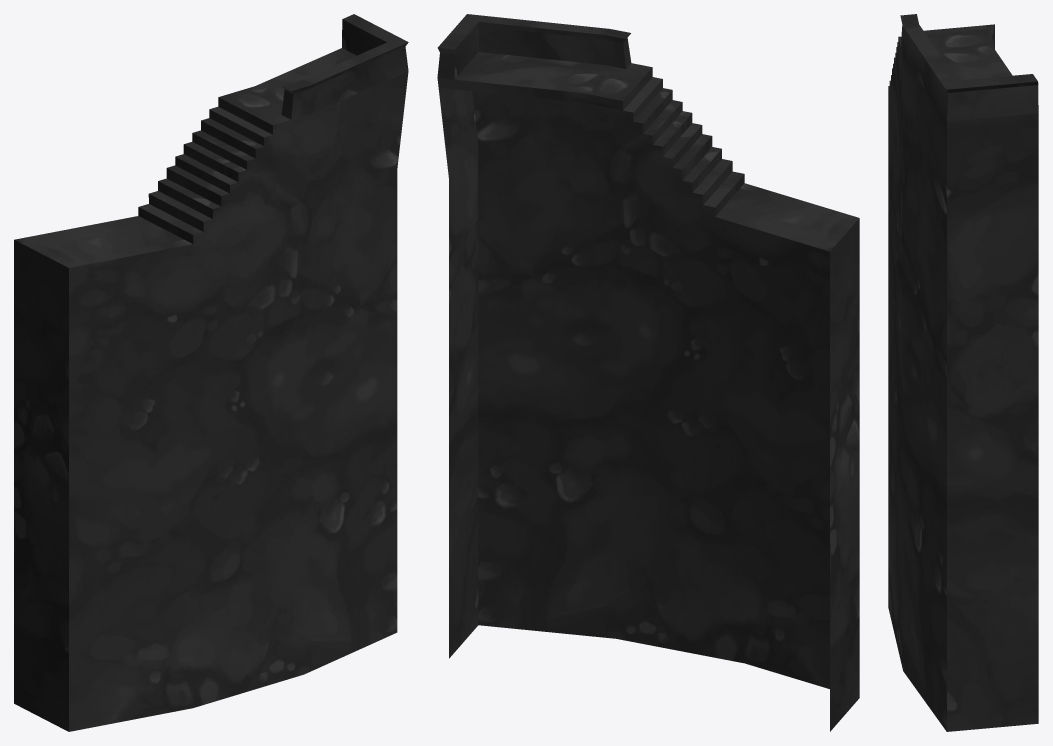
Rendered from Water_Platform_Steps.fbx.
The picture shows the model from 3 angles, left to right: view 1: azimuth 30°, elevation 25°; view 2: azimuth 150°, elevation 25°; view 3: azimuth 270°, elevation 25°; orthographic projection. The views are drawn at different scales.
Visible parts, largest first — view 1: Water_Platform_Steps; view 2: Water_Platform_Steps; view 3: Water_Platform_Steps.
Part boxes in pixels (x1,y1,x2,y2): Water_Platform_Steps: [14, 14, 408, 731]; Water_Platform_Steps: [437, 14, 859, 731]; Water_Platform_Steps: [888, 14, 1038, 731].
Bounding box in the file's own units: 1503 × 2269 × 476.
